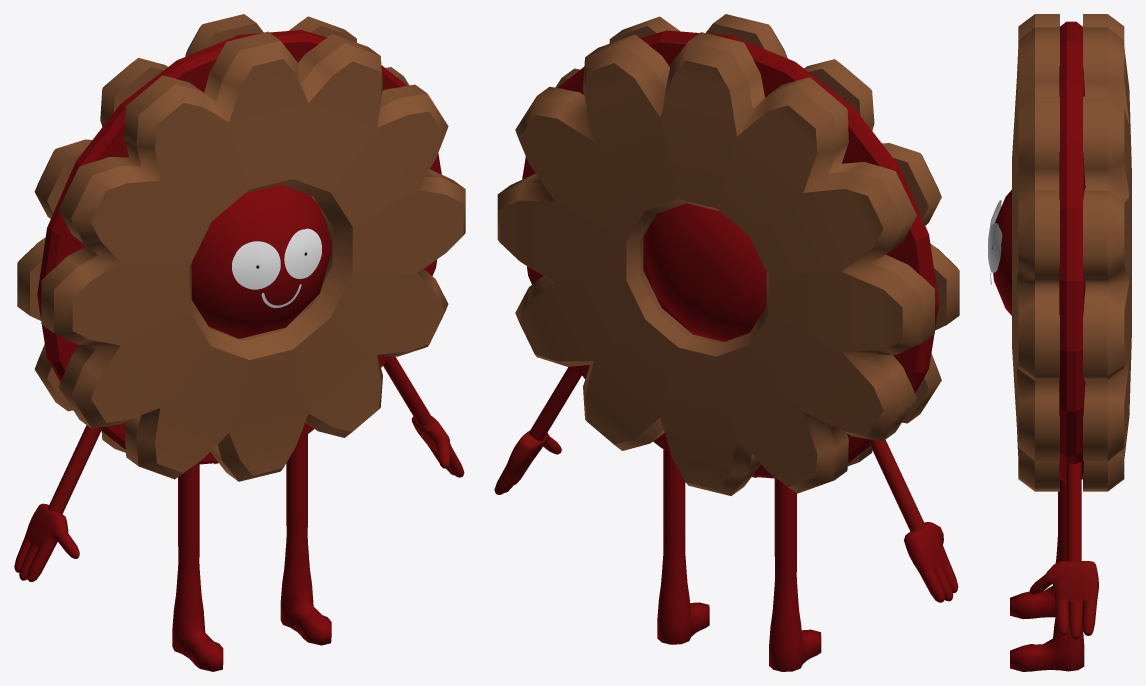
File: SKM_Canestrello.fbx
3 views of the same model, side by side, from view 1: azimuth 30°, elevation 25°; view 2: azimuth 150°, elevation 25°; view 3: azimuth 270°, elevation 25° (orthographic). The views are drawn at different scales.
Visible parts, largest first — view 1: SKM_Canestrello; view 2: SKM_Canestrello; view 3: SKM_Canestrello.
Boxes of the visible parts, x1,y1,x2,y2 form: SKM_Canestrello: (14,14,465,671); SKM_Canestrello: (494,14,959,671); SKM_Canestrello: (988,14,1131,671).
Size of the model in its own units: 1.91 by 2.5 by 0.5423.
2 materials, 1 textured.
